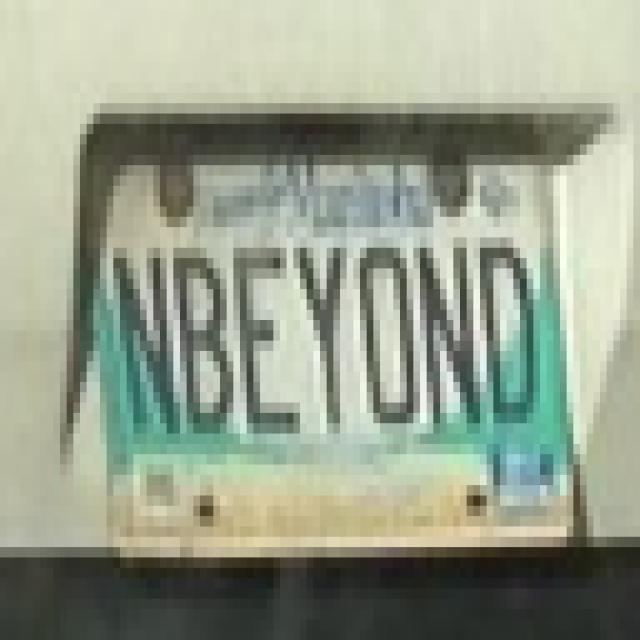0: (357, 225, 423, 437)
B: (172, 226, 240, 436)
D: (481, 220, 548, 434)
E: (229, 221, 308, 445)
N: (412, 222, 489, 446), (104, 230, 182, 450)
Y: (294, 215, 356, 438)
